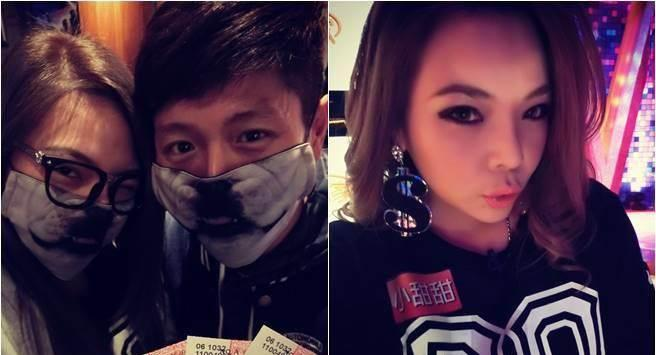NONE: (413, 77, 554, 219)
OK: (1, 134, 144, 277)
WRONG: (150, 93, 314, 257)
